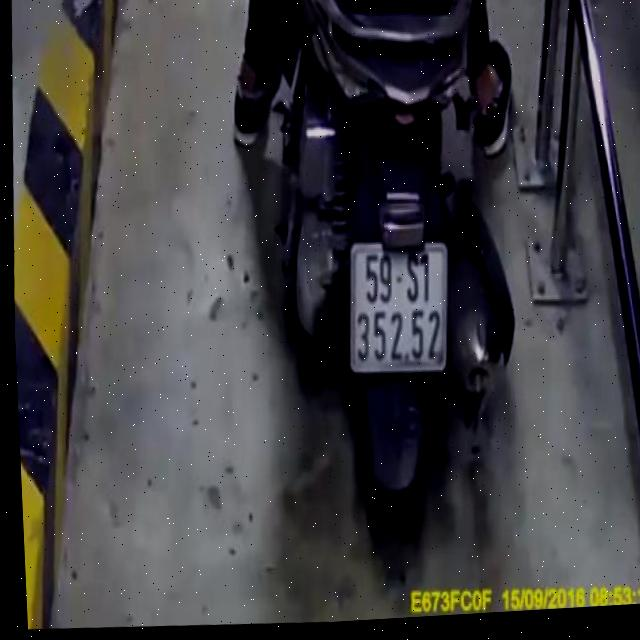motorcycle: (242, 0, 539, 544)
plate: (341, 235, 457, 378)
